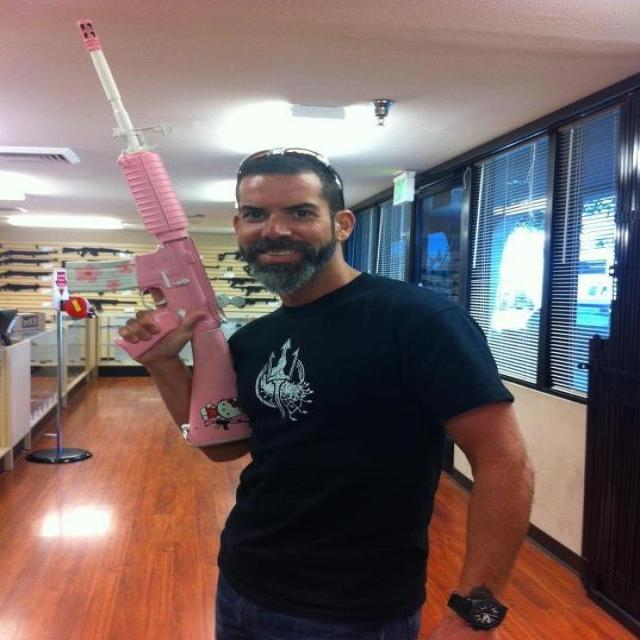firearm: (64, 17, 251, 448)
